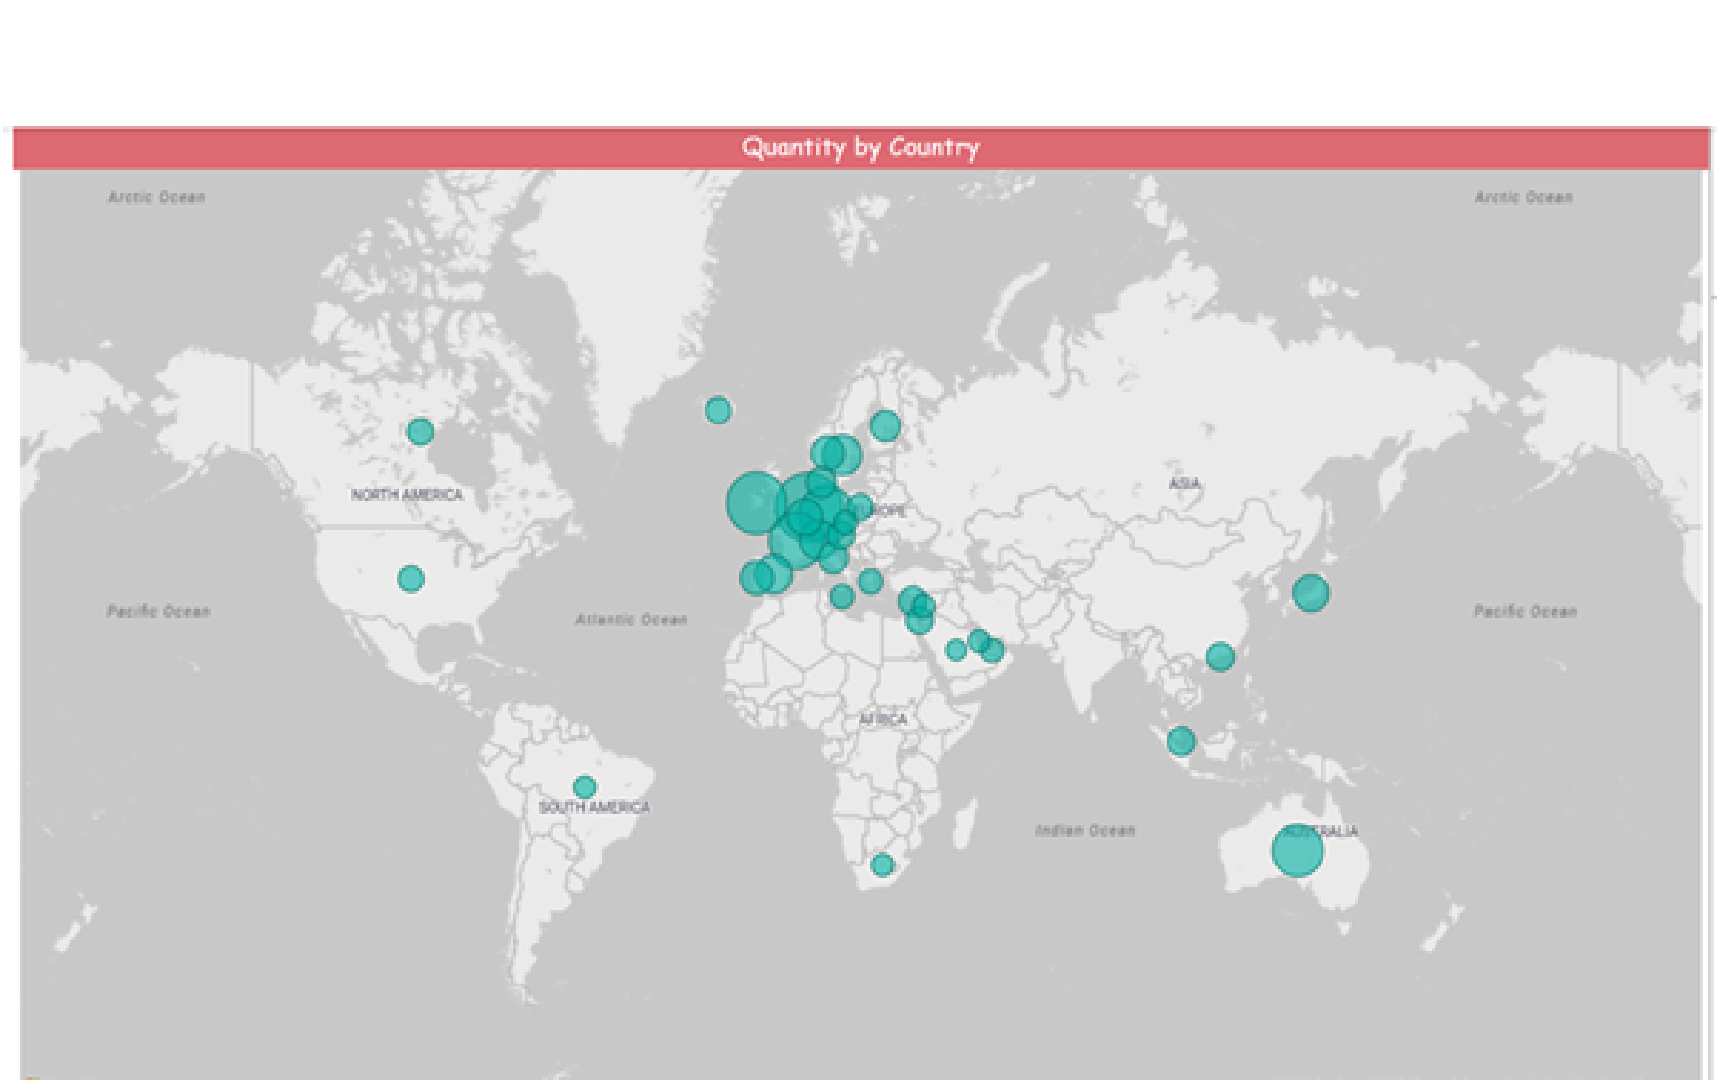

The page's visual inventory and layout, read from the dashboard file:
{"tool":"powerbi","page":{"name":"Question 4","canvas":[1280,720],"ordinal":3},"visuals":[{"type":"map","fields":{"Category":["Online Retail.Country"],"Size":["Sum(Online Retail.Quantity)"]},"box":[9.7,0,1270.3,719],"z":0}]}

Visuals, with their boxes on the page's 1280x720 design canvas (x1, y1, x2, y2). These are canvas units, not pixel positions in the 1728x1080 screenshot, which may show the page scaled, cropped or inside an application window:
map - Online Retail.Country x Sum(Online Retail.Quantity): <box>10,0,1280,719</box>
